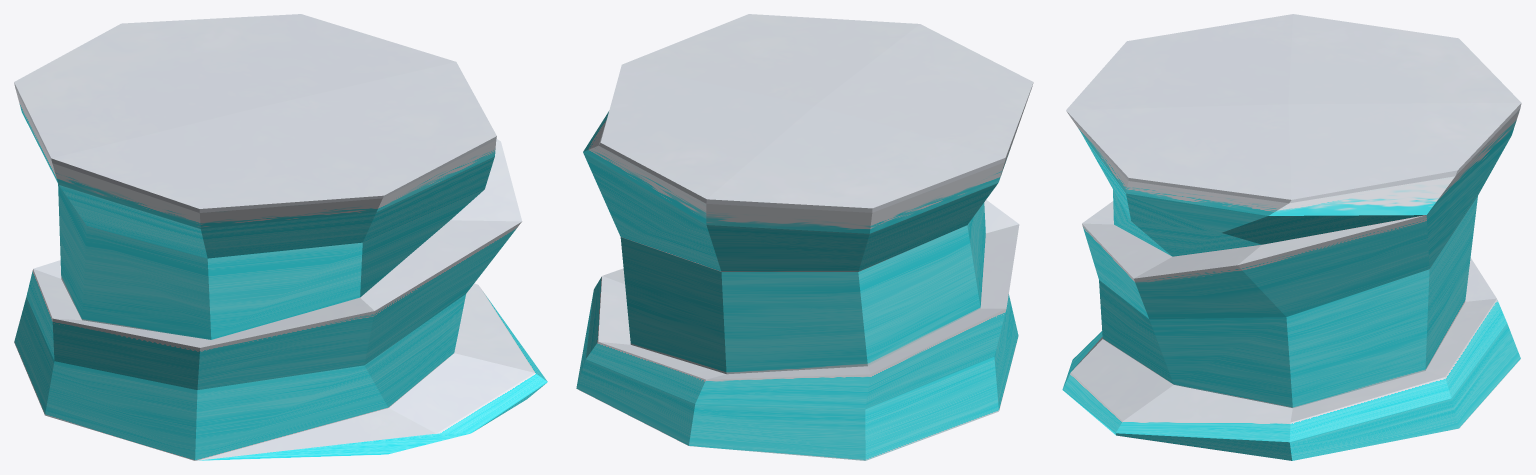
Rendered from EpicPeak.fbx.
The picture shows the model from 3 angles, left to right: view 1: azimuth 30°, elevation 25°; view 2: azimuth 150°, elevation 25°; view 3: azimuth 270°, elevation 25°; orthographic projection. The views are drawn at different scales.
Visible parts, largest first — view 1: island; view 2: island; view 3: island.
Part boxes in pixels (left/top/right/bottom): island: left=14, top=14, right=547, bottom=460; island: left=576, top=14, right=1033, bottom=460; island: left=1062, top=14, right=1521, bottom=460.
Size of what is drawn, in the model's own units: 129 by 76.34 by 126.
